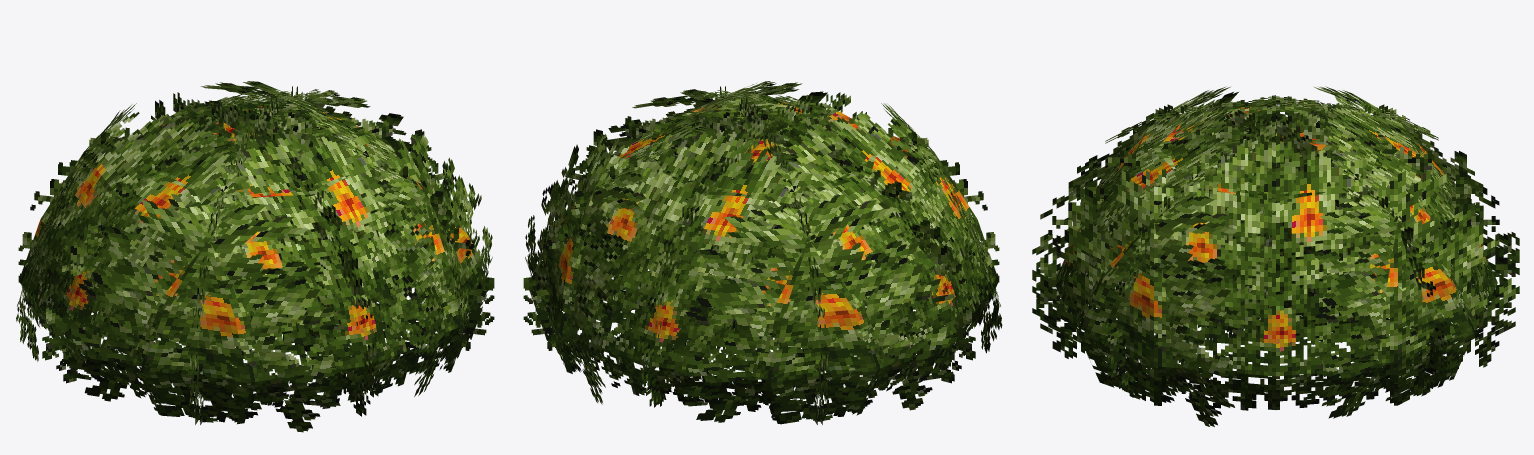
File: bush06_spring3.glb
3 views of the same model, side by side, from view 1: azimuth 30°, elevation 25°; view 2: azimuth 150°, elevation 25°; view 3: azimuth 270°, elevation 25° (orthographic).
Visible parts, largest first — view 1: bush06; view 2: bush06; view 3: bush06.
Part boxes in pixels (x1,y1,x2,y2): bush06: (16,81,494,432); bush06: (523,81,1002,424); bush06: (1032,86,1519,426).
Size of the model in its own units: 3 by 1.5 by 3.
Materials: 1 (1 with a texture image).
